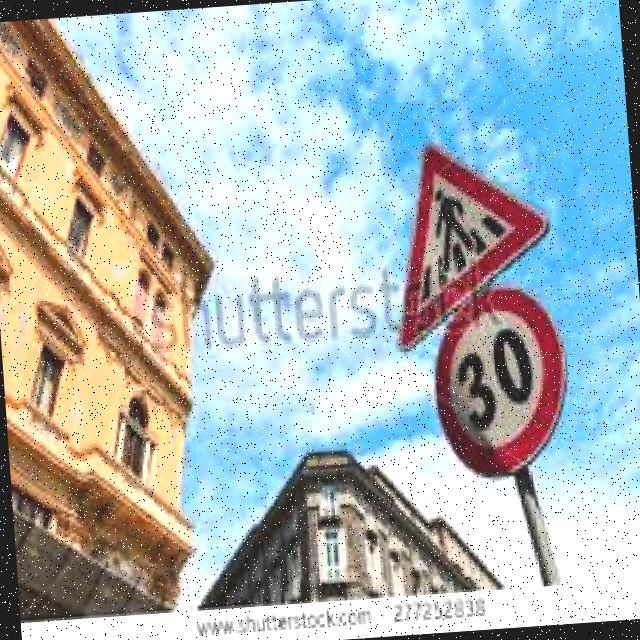Ograniczenie predkosci do 30: (432, 286, 576, 481)
